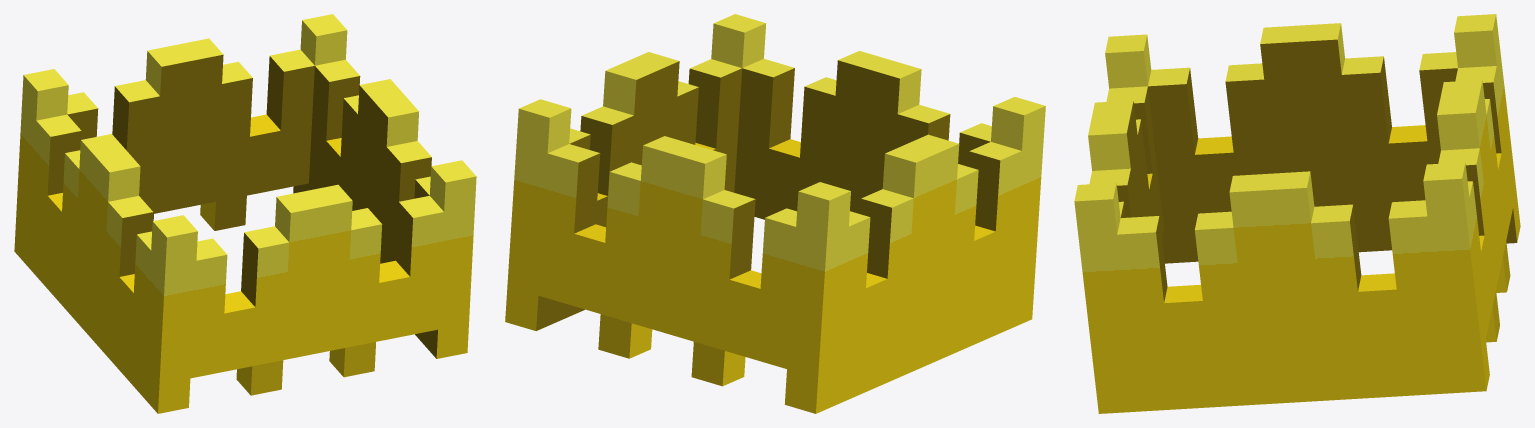
The model's file is crown_obj.obj.
The picture shows the model from 3 angles, left to right: view 1: azimuth 30°, elevation 25°; view 2: azimuth 150°, elevation 25°; view 3: azimuth 270°, elevation 25°; orthographic projection. The views are drawn at different scales.
Visible parts, largest first — view 1: cube, 2, 1; view 2: cube, 1, 2; view 3: cube, 1, 2.
Boxes of the visible parts, <box> form: cube: <box>14,14,476,413</box>; 2: <box>105,141,431,307</box>; 1: <box>62,61,358,227</box>; cube: <box>505,14,1045,413</box>; 1: <box>580,106,913,279</box>; 2: <box>674,77,978,249</box>; cube: <box>1074,14,1520,413</box>; 1: <box>1311,56,1497,293</box>; 2: <box>1089,63,1272,300</box>.
Size of the model in its own units: 0.6802 by 0.4383 by 0.7127.
